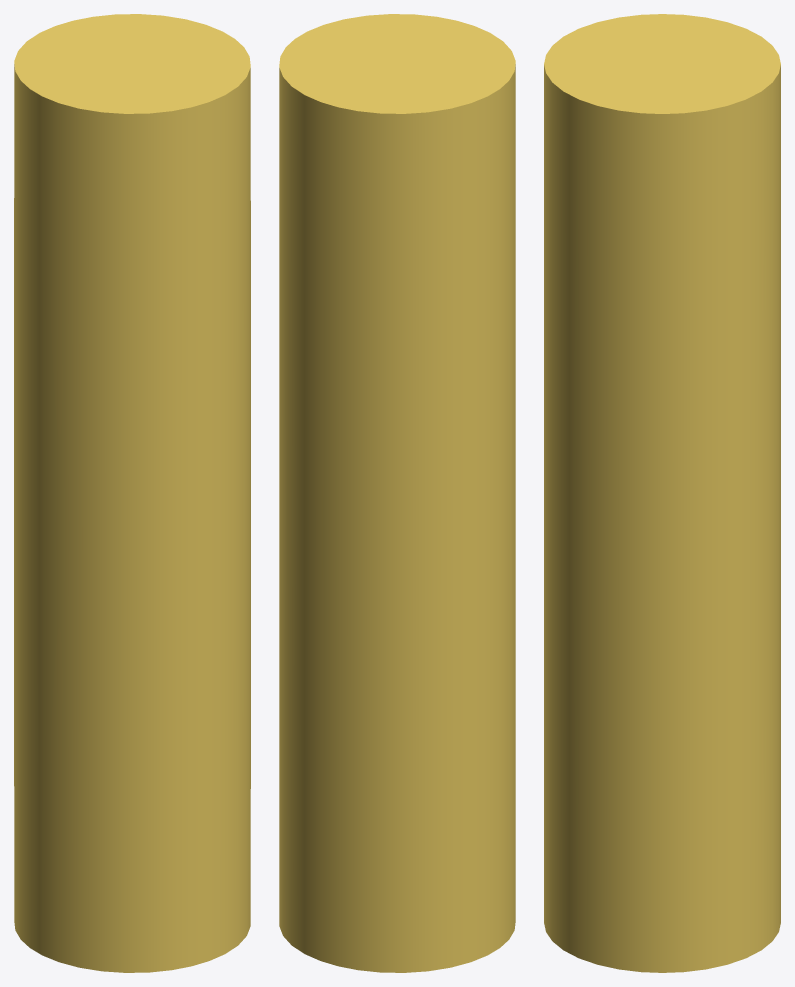
File: 3dObject.glb
The picture shows the model from 3 angles, left to right: view 1: azimuth 30°, elevation 25°; view 2: azimuth 150°, elevation 25°; view 3: azimuth 270°, elevation 25°; orthographic projection.
Visible parts, largest first — view 1: Body1; view 2: Body1; view 3: Body1.
Part boxes in pixels (x1=…): Body1: x1=14, y1=14, x2=250, y2=972; Body1: x1=279, y1=14, x2=515, y2=972; Body1: x1=544, y1=14, x2=780, y2=972.
Size of the model in its own units: 1 by 4 by 1.
